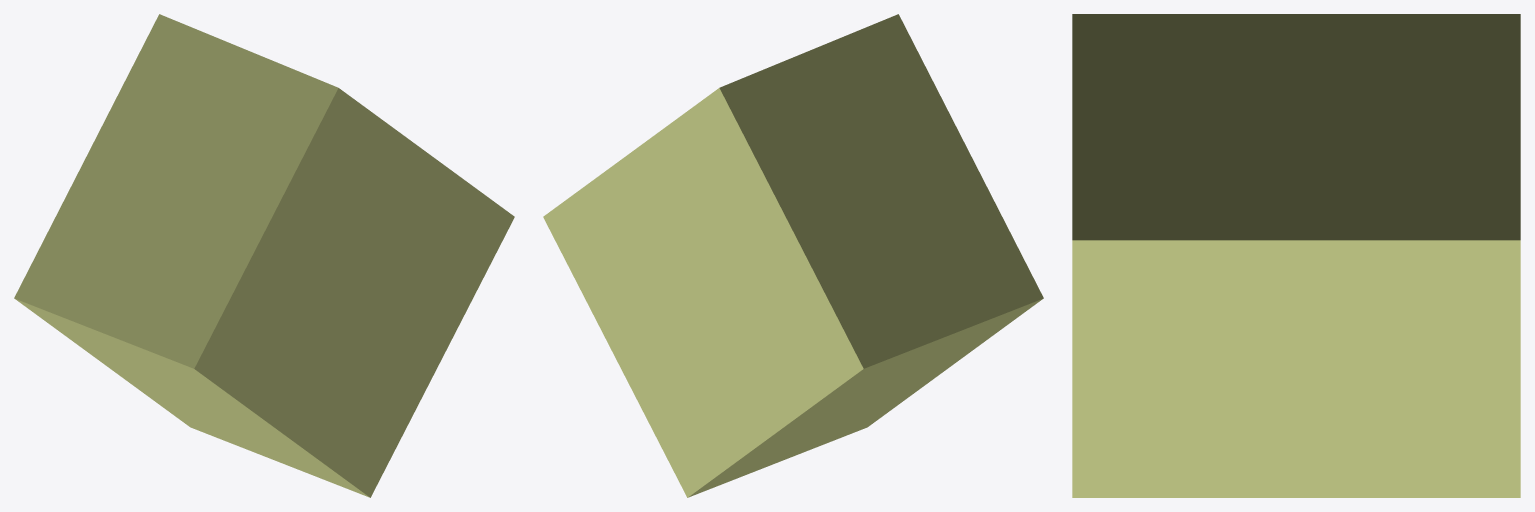
3 views of the same model, side by side, from view 1: azimuth 30°, elevation 25°; view 2: azimuth 150°, elevation 25°; view 3: azimuth 270°, elevation 25° (orthographic). The views are drawn at different scales.
Visible parts, largest first — view 1: 0_1_2_0_3_3_2_0_0_0; view 2: 0_1_2_0_3_3_2_0_0_0; view 3: 0_1_2_0_3_3_2_0_0_0.
Part boxes in pixels (bbox=[...]): 0_1_2_0_3_3_2_0_0_0: bbox=[14, 14, 514, 497]; 0_1_2_0_3_3_2_0_0_0: bbox=[543, 14, 1043, 497]; 0_1_2_0_3_3_2_0_0_0: bbox=[1072, 14, 1520, 497].
Bounding box in the file's own units: 9.57 × 10.23 × 9.
